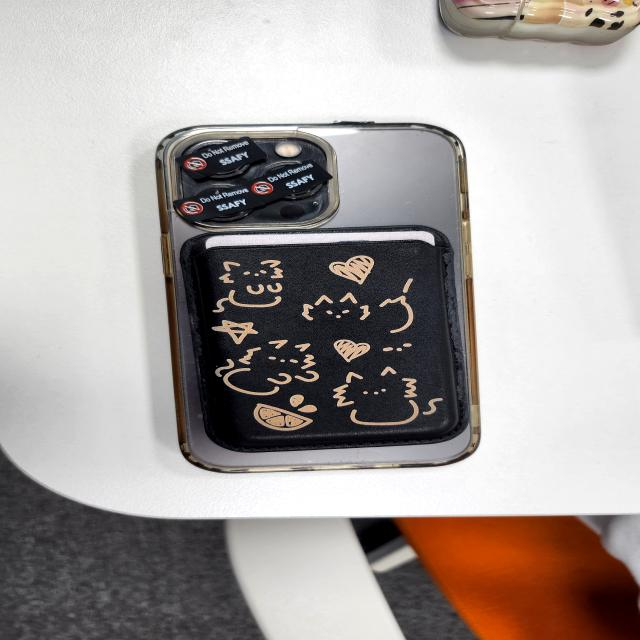phone: (152, 123, 490, 479)
sticker: (180, 139, 264, 177), (253, 159, 329, 200), (174, 186, 260, 222)
